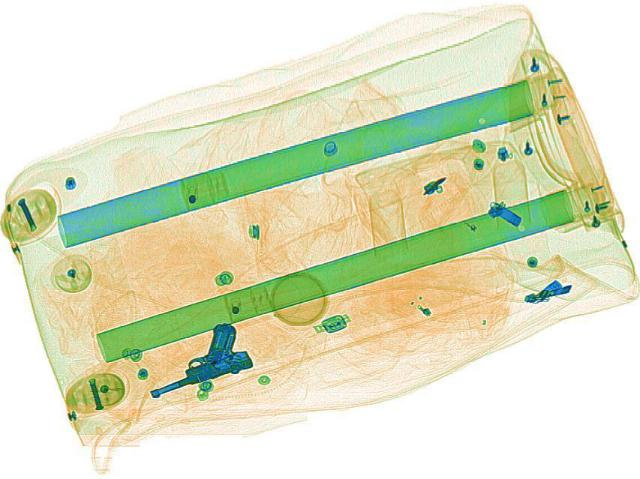Gun: (122, 320, 260, 396)
